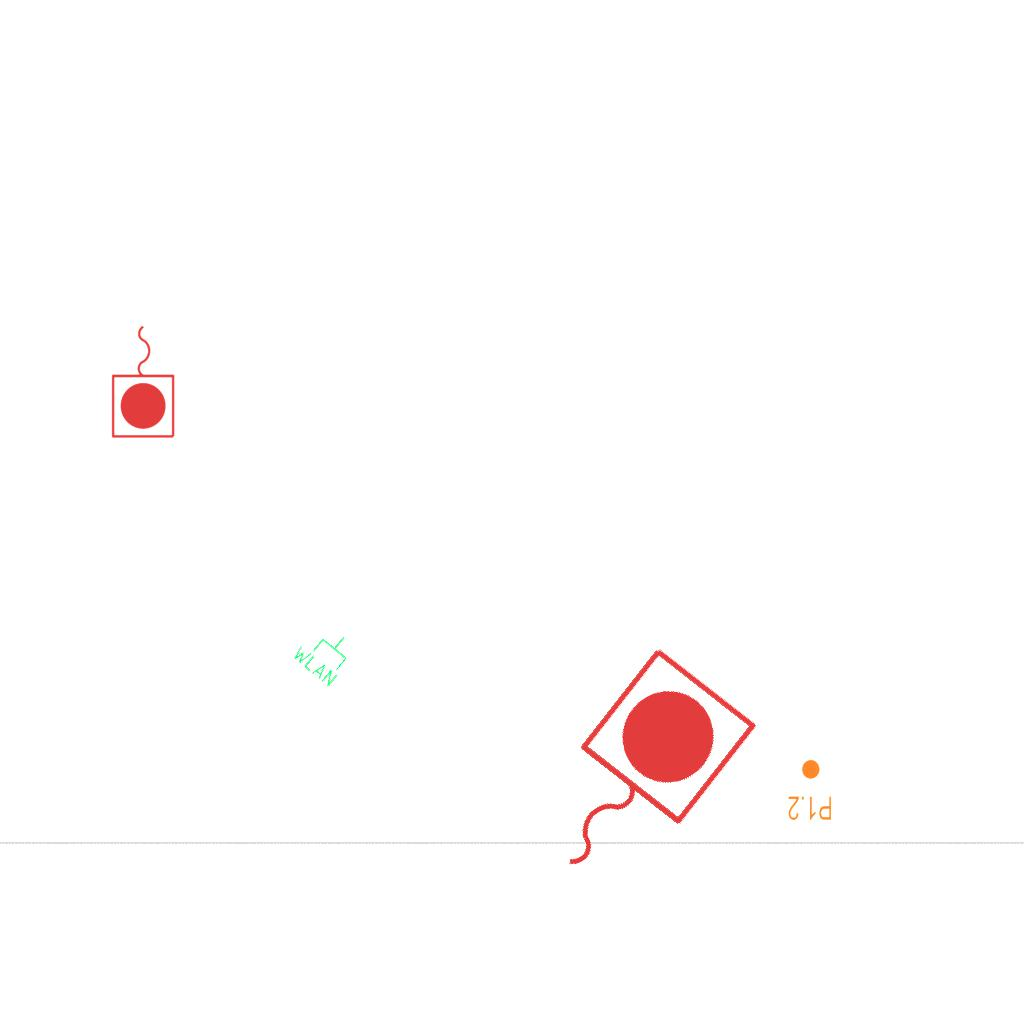Downlight_LED_Einbauleuchten_Flur: (787, 758, 833, 822)
WLAN: (288, 616, 362, 690)
Zugtaster: (504, 634, 768, 916), (108, 320, 180, 442)
